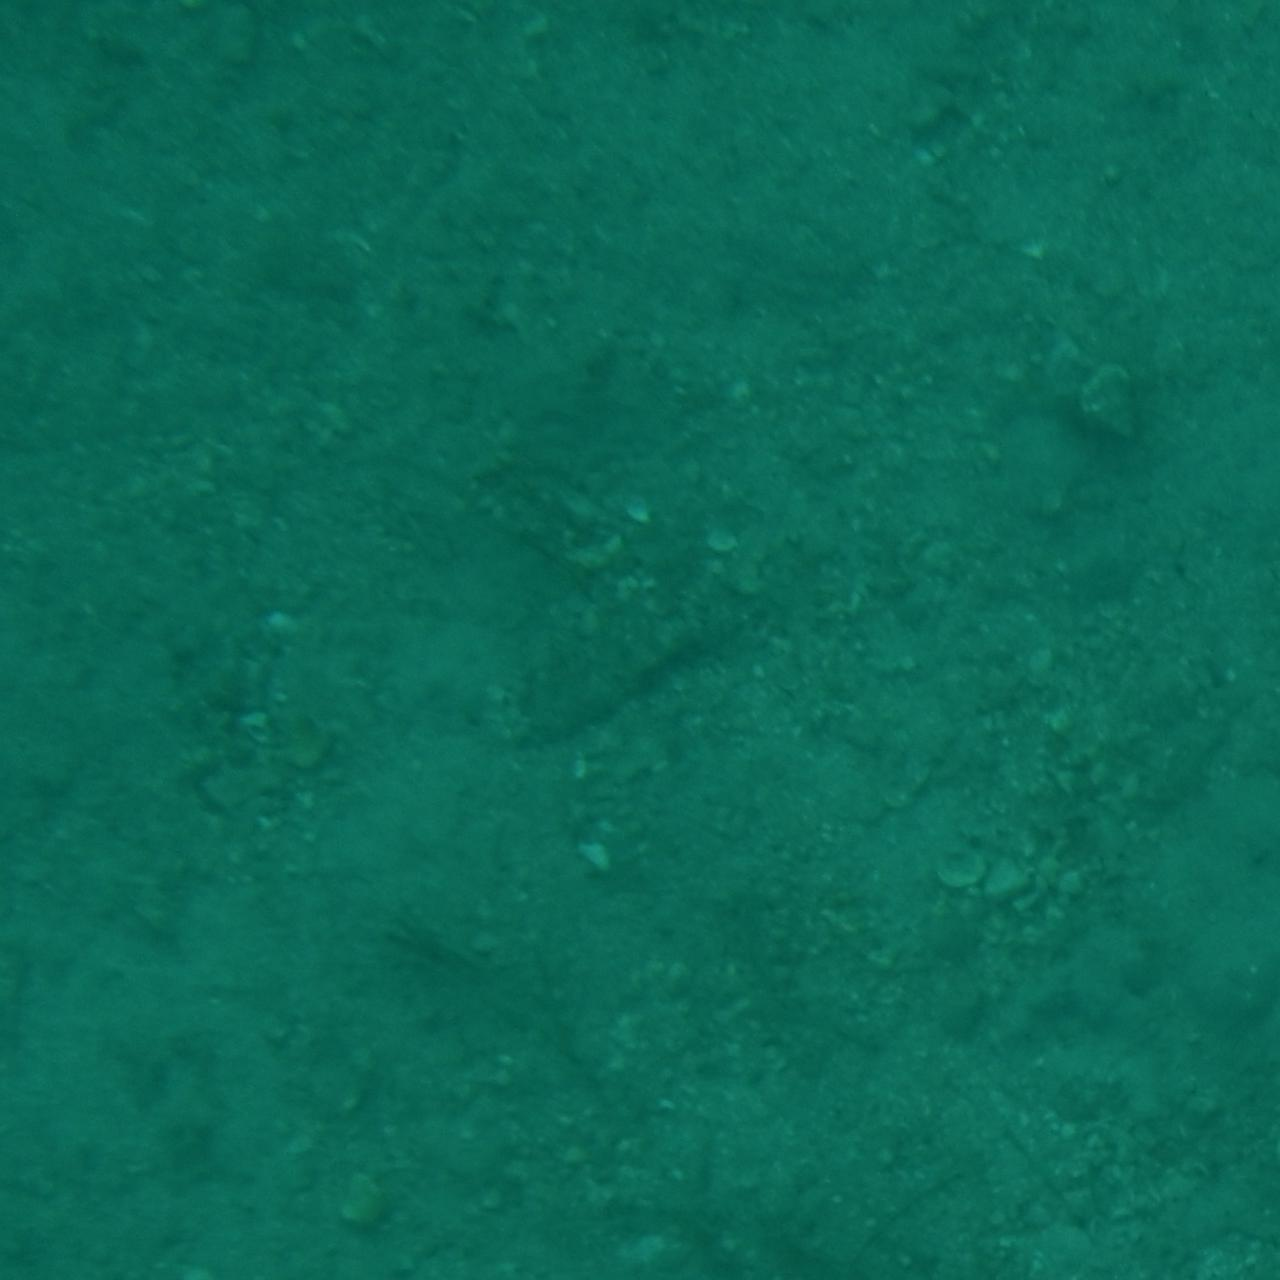Holothuria tubulosa: (475, 534, 805, 746)
